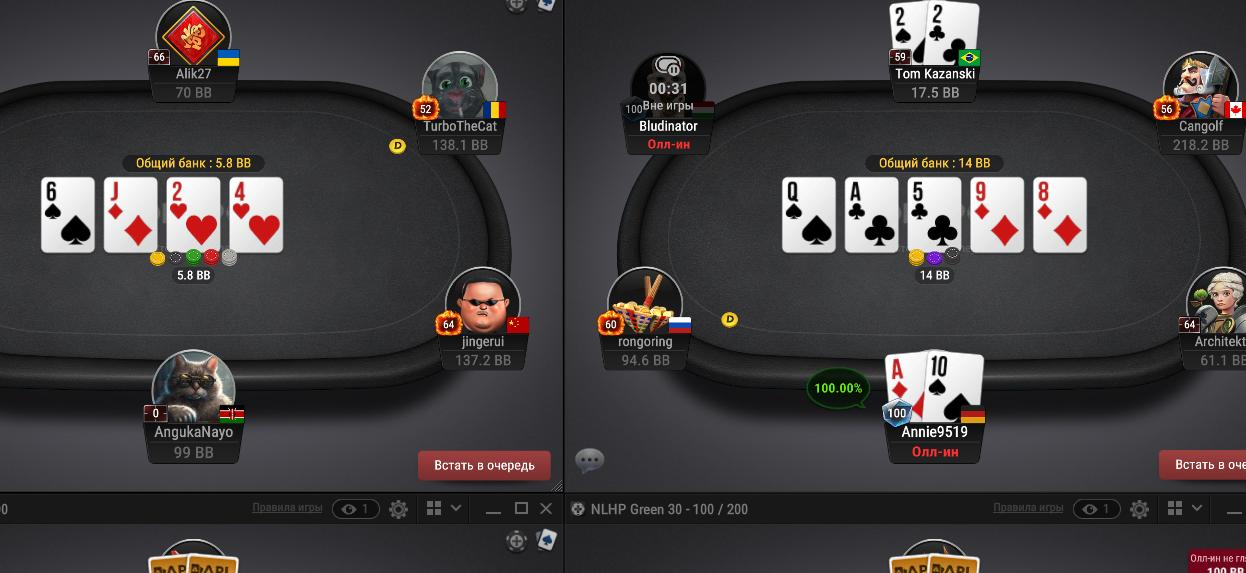10s: (924, 347, 984, 425)
2c: (926, 0, 980, 68)
2h: (168, 177, 219, 253)
2s: (889, 1, 928, 68)
4h: (229, 176, 284, 251)
5c: (906, 176, 960, 252)
6s: (42, 175, 95, 253)
8d: (1035, 178, 1087, 253)
9d: (971, 178, 1025, 254)
Ac: (846, 179, 899, 253)
Ad: (885, 353, 927, 424)
Jd: (105, 179, 157, 252)
Qs: (785, 178, 836, 251)
